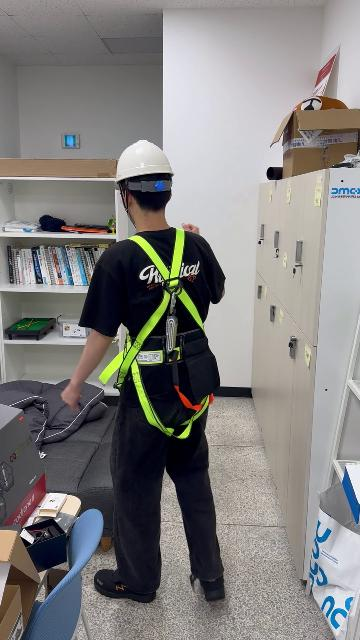helmet_worn: (113, 140, 176, 191)
shoe_worn: (93, 569, 155, 603), (189, 572, 224, 602)
vest_worn: (121, 240, 212, 418)
